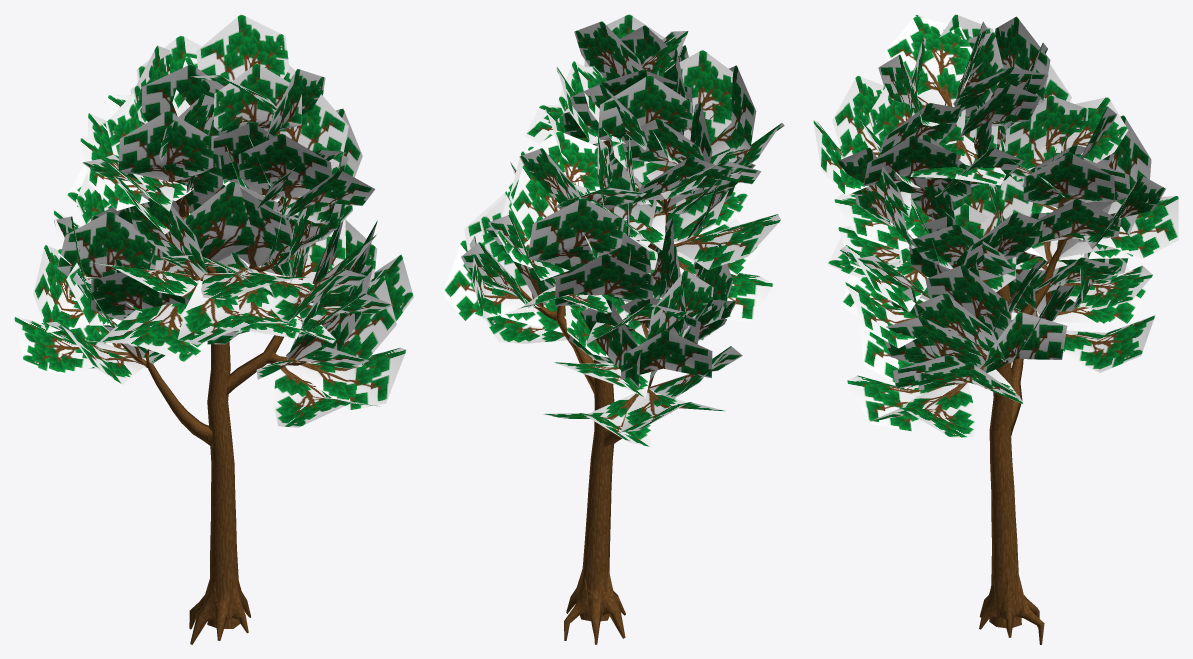
Rendered from v2-small-export.fbx.
The picture shows the model from 3 angles, left to right: view 1: azimuth 30°, elevation 25°; view 2: azimuth 150°, elevation 25°; view 3: azimuth 270°, elevation 25°; orthographic projection. The views are drawn at different scales.
Visible parts, largest first — view 1: MainTrunk, Stump; view 2: MainTrunk, Stump; view 3: MainTrunk, Stump.
Boxes of the visible parts, left/top/right/bottom form: MainTrunk: left=14, top=14, right=413, bottom=468; Stump: left=189, top=464, right=250, bottom=644; MainTrunk: left=442, top=14, right=784, bottom=465; Stump: left=564, top=459, right=625, bottom=644; MainTrunk: left=813, top=14, right=1178, bottom=465; Stump: left=979, top=462, right=1044, bottom=644.
Size of the model in its own units: 338 by 623 by 333.
